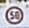limite 50: (4, 5, 23, 24)
